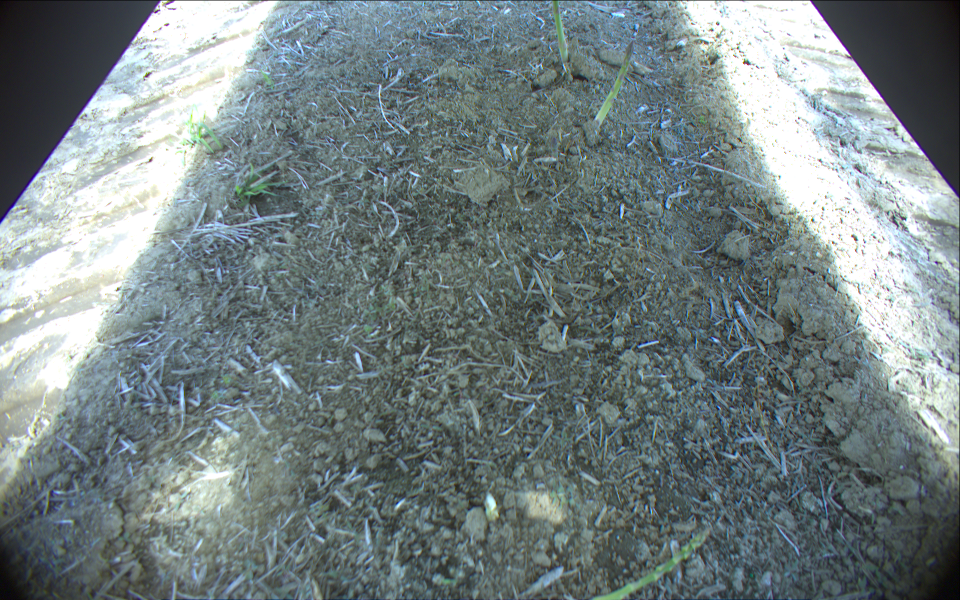aspa: (593, 527, 712, 600), (593, 40, 635, 135), (549, 1, 571, 79), (484, 493, 499, 526)
